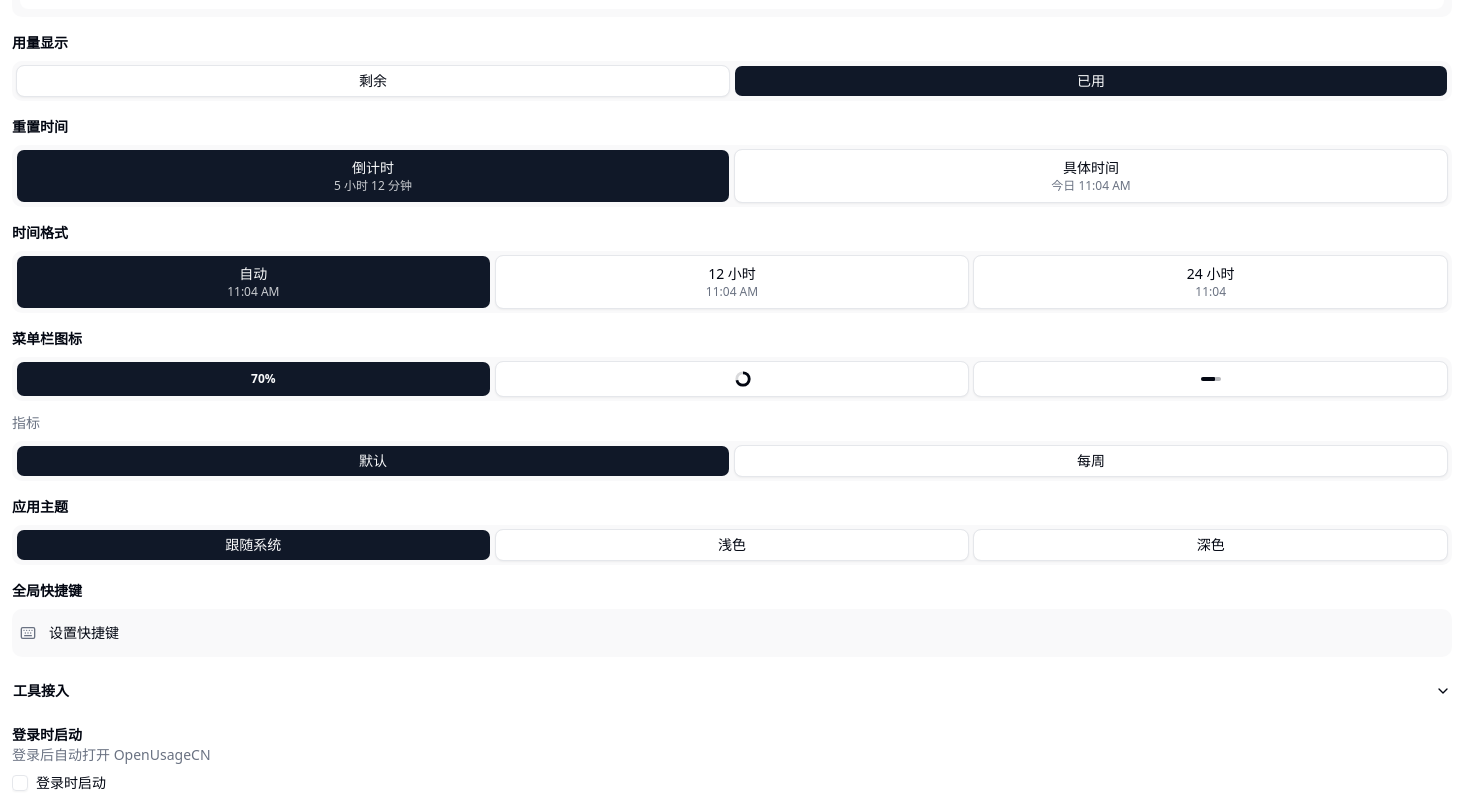
Scenario: SettingsPage › mounts supported Mac tool settings only while expanded
(page scrolled)
Click the button "工具接入". click: (41, 690)
box: [12,673,1452,709]
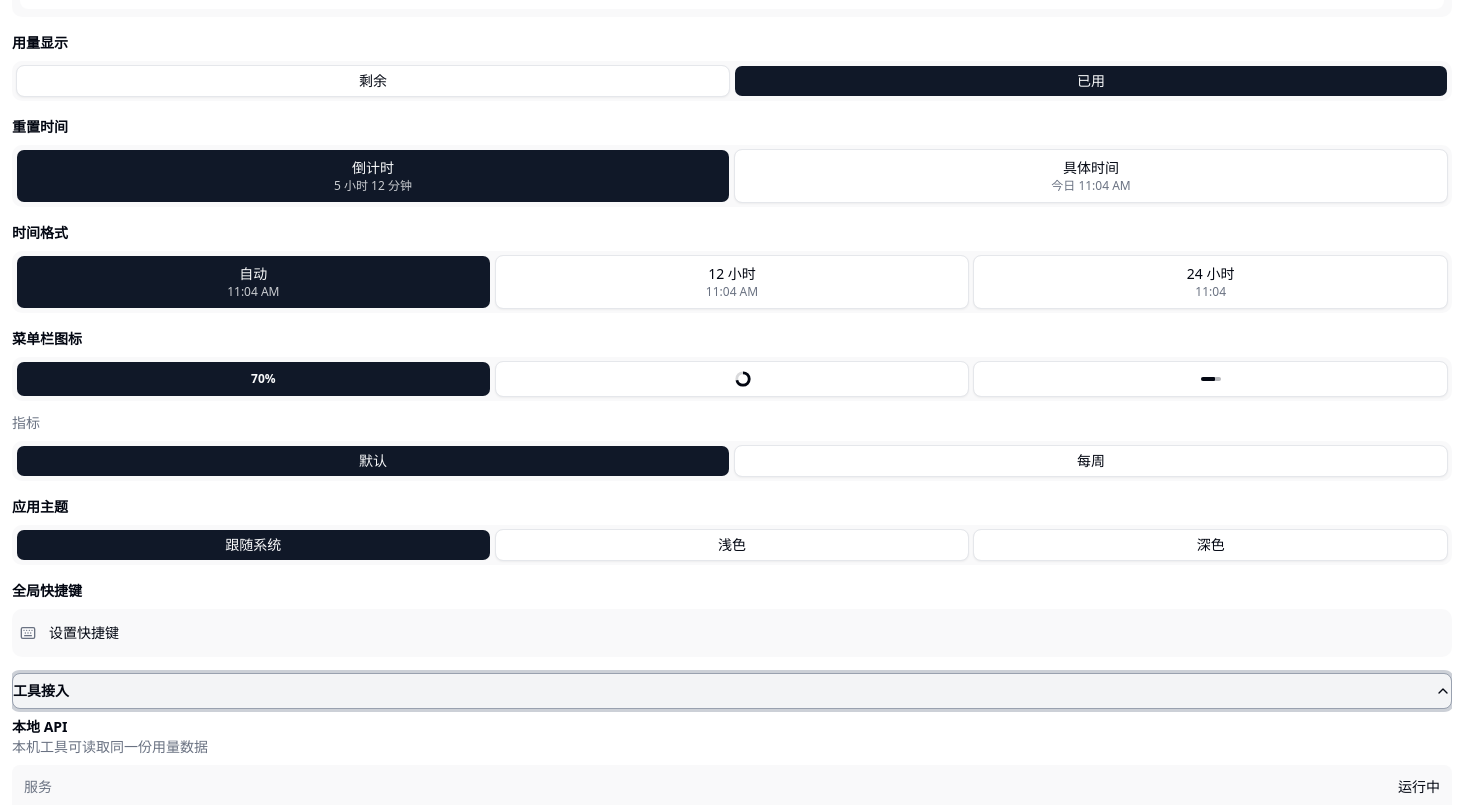
Expected: the button "工具接入" is expanded
Expected: the heading "本地 API" is shown, [12,717,68,736]
Click the button "工具接入". click: (41, 690)
box: [12,673,1452,709]
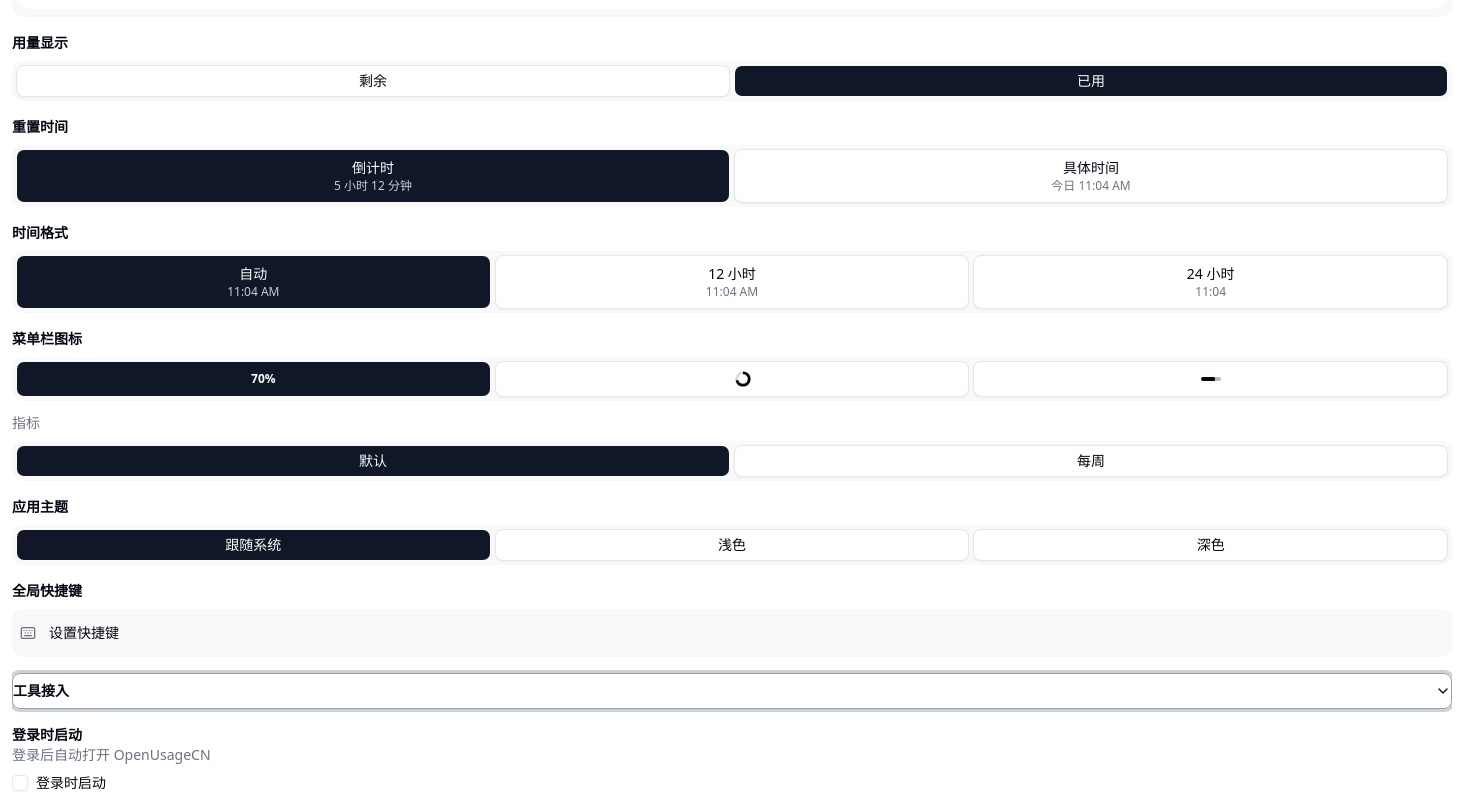
Expected: the button "工具接入" is collapsed, [12,673,1452,709]
Expected: the heading "本地 API" is gone
